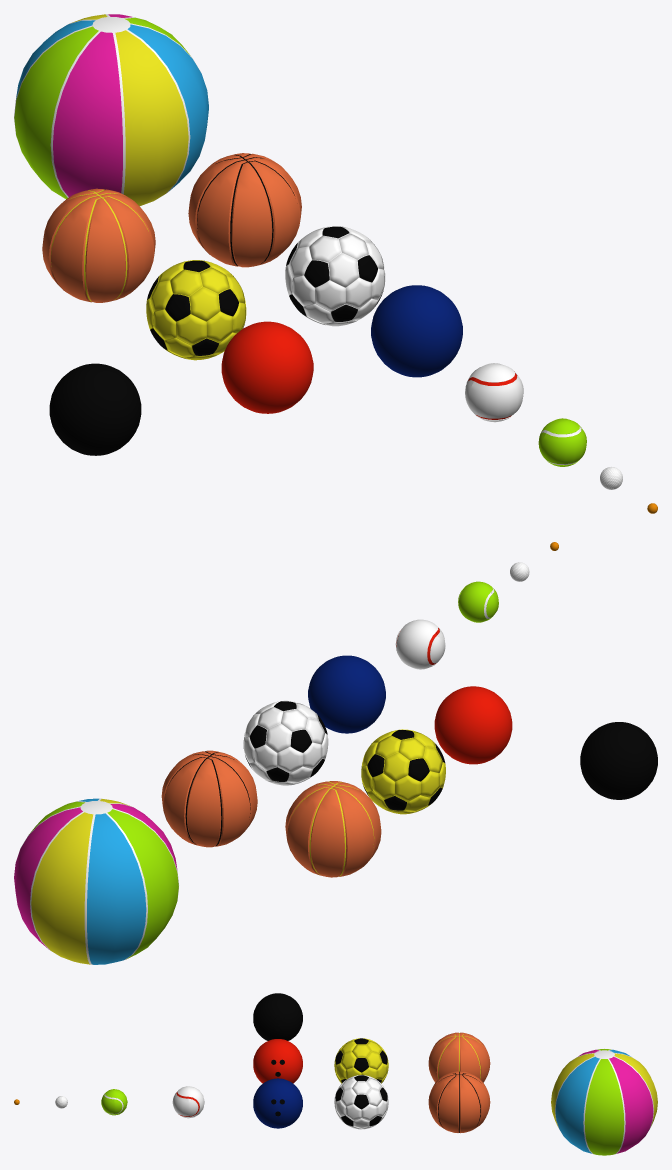
The picture shows the model from 3 angles, top to bottom: view 1: azimuth 30°, elevation 25°; view 2: azimuth 150°, elevation 25°; view 3: azimuth 270°, elevation 25°; orthographic projection. The views are drawn at different scales.
Parts seen in each view (by area): view 1: Sphere.005, Sphere.008, Sphere, Football, Football.001, Sphere.007, Sphere.006, Sphere.002, Sphere.003, Mesh_Green_0; view 2: Sphere.005, Sphere, Sphere.008, Football, Football.001, Sphere.006, Sphere.007, Sphere.002, Sphere.003, Mesh_Green_0; view 3: Sphere.005, Sphere, Football, Sphere.008, Sphere.002, Sphere.007, Football.001, Sphere.006, Sphere.003, Mesh_Green_0.
Part boxes in pixels (x1=…): Sphere.005: x1=14, y1=14, x2=208, y2=206; Sphere.008: x1=42, y1=188, x2=155, y2=302; Sphere: x1=188, y1=153, x2=301, y2=267; Football: x1=285, y1=226, x2=385, y2=326; Football.001: x1=146, y1=260, x2=246, y2=360; Sphere.007: x1=49, y1=363, x2=141, y2=455; Sphere.006: x1=221, y1=321, x2=313, y2=413; Sphere.002: x1=371, y1=285, x2=462, y2=377; Sphere.003: x1=465, y1=363, x2=523, y2=422; Mesh_Green_0: x1=538, y1=418, x2=586, y2=466; Sphere.005: x1=14, y1=798, x2=178, y2=964; Sphere: x1=161, y1=750, x2=257, y2=847; Sphere.008: x1=285, y1=781, x2=381, y2=877; Football: x1=243, y1=700, x2=328, y2=785; Football.001: x1=361, y1=729, x2=445, y2=814; Sphere.006: x1=434, y1=686, x2=512, y2=764; Sphere.007: x1=580, y1=722, x2=657, y2=799; Sphere.002: x1=308, y1=655, x2=385, y2=733; Sphere.003: x1=395, y1=619, x2=445, y2=669; Mesh_Green_0: x1=458, y1=581, x2=498, y2=622; Sphere.005: x1=551, y1=1049, x2=657, y2=1155; Sphere: x1=428, y1=1071, x2=490, y2=1133; Football: x1=334, y1=1075, x2=388, y2=1129; Sphere.008: x1=428, y1=1032, x2=490, y2=1082; Sphere.002: x1=253, y1=1078, x2=302, y2=1128; Sphere.007: x1=253, y1=993, x2=302, y2=1040; Football.001: x1=334, y1=1038, x2=388, y2=1083; Sphere.006: x1=253, y1=1039, x2=302, y2=1083; Sphere.003: x1=172, y1=1086, x2=204, y2=1118; Mesh_Green_0: x1=101, y1=1089, x2=127, y2=1115.
Bounding box in the file's own units: 8.14 × 3.08 × 18.93.
